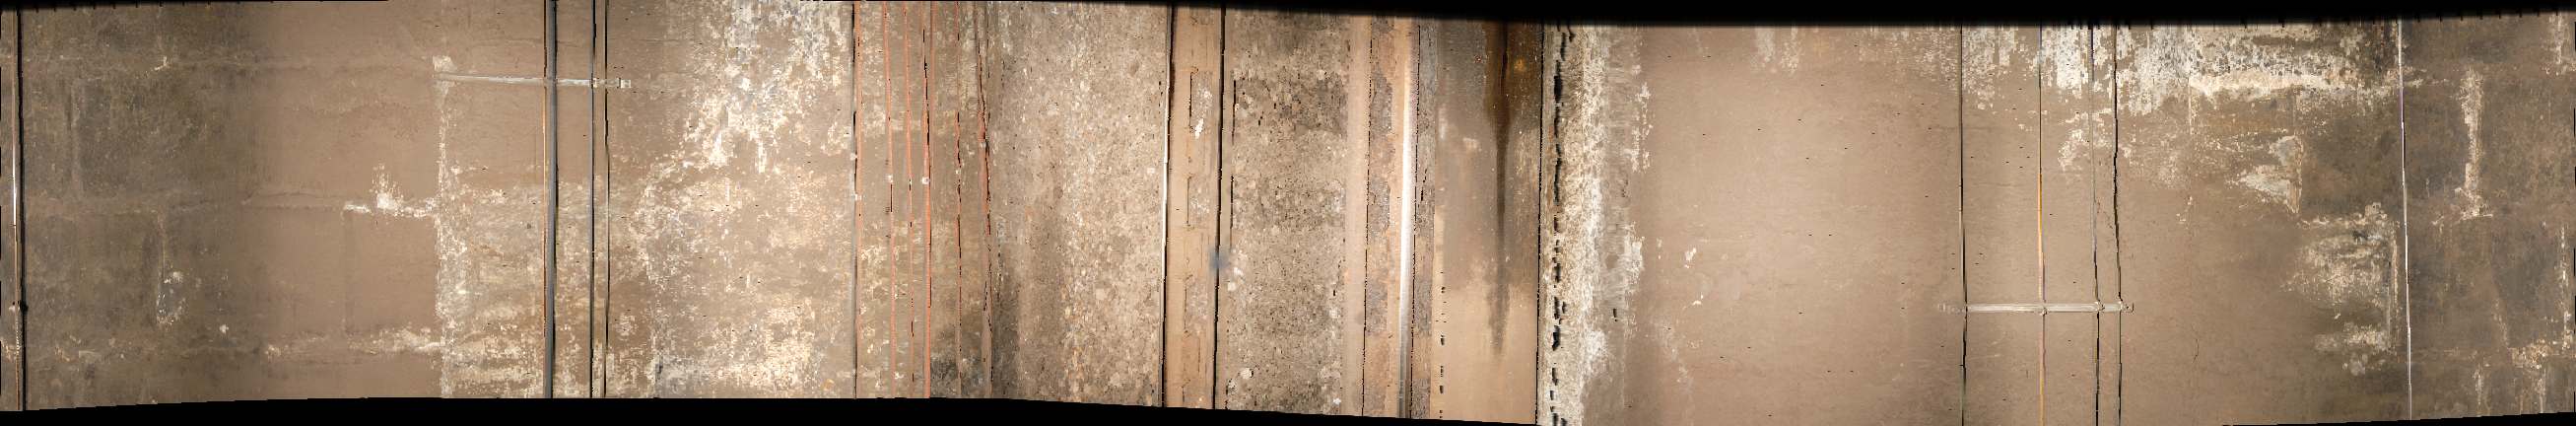pipes: (838, 5, 1035, 424), (539, 2, 629, 411), (2082, 20, 2141, 426), (1939, 20, 1981, 426), (2031, 25, 2055, 426)
tracks: (1157, 5, 1575, 426)
